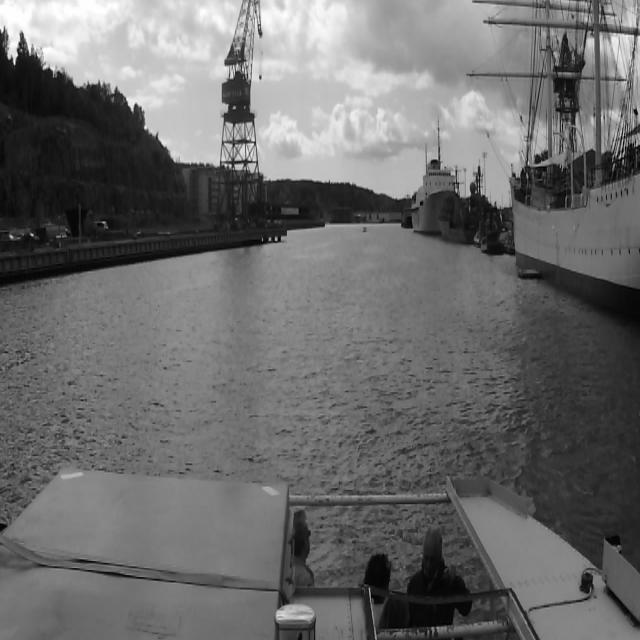ship: (513, 140, 640, 301), (413, 157, 455, 233), (438, 165, 478, 241), (480, 216, 502, 253), (484, 228, 506, 252), (473, 226, 485, 244), (362, 223, 368, 232)
